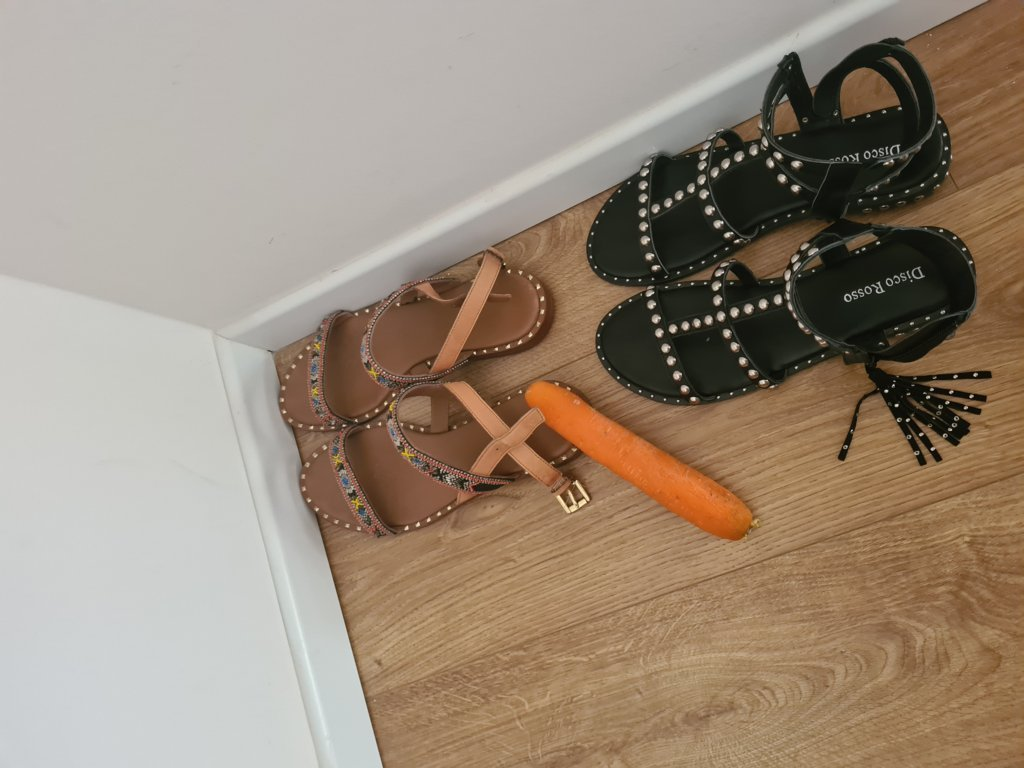carrot: (524, 380, 755, 535)
